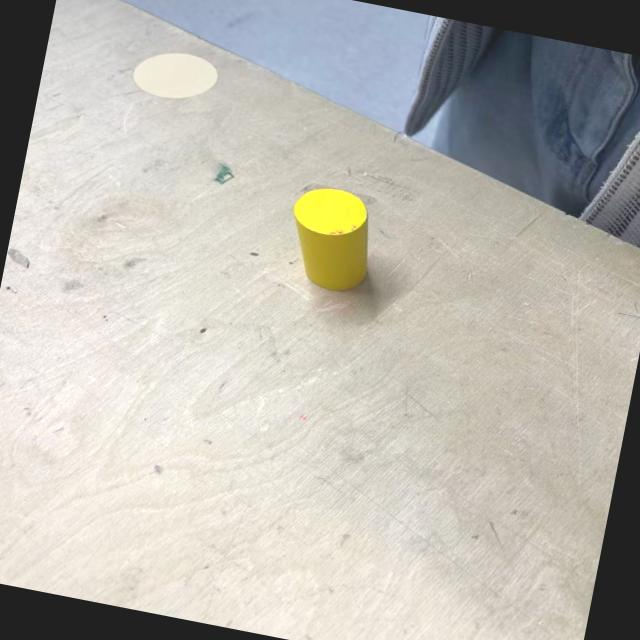yellow_cylinder: (279, 182, 382, 296)
